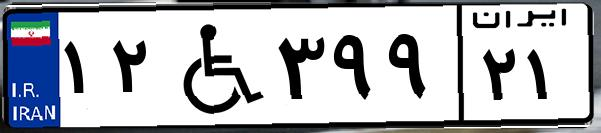1: (57, 26, 110, 100), (525, 38, 570, 115)
2: (475, 38, 525, 113), (110, 28, 158, 98)
3: (270, 28, 330, 110)
9: (385, 28, 445, 110), (330, 28, 385, 110)
ژ (معلولین و جانبازان): (158, 12, 270, 120)
